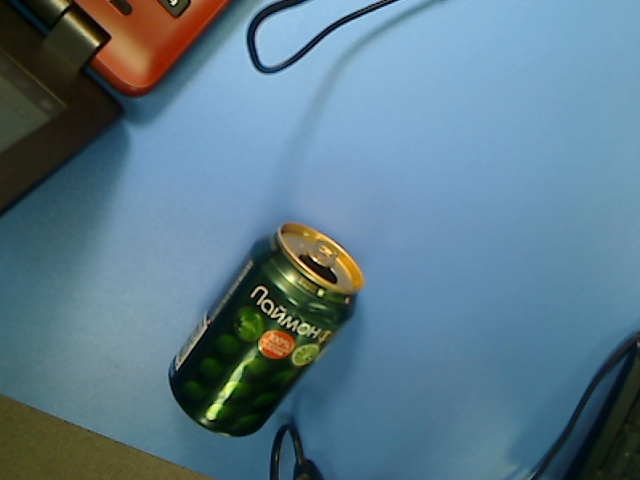can: (165, 218, 367, 443)
